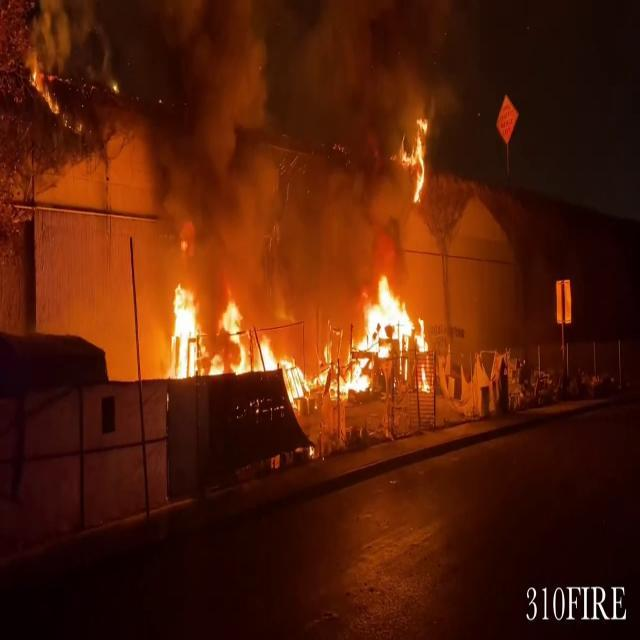Fire: (154, 268, 438, 418), (396, 112, 436, 208)
Smoke: (2, 0, 468, 280)
